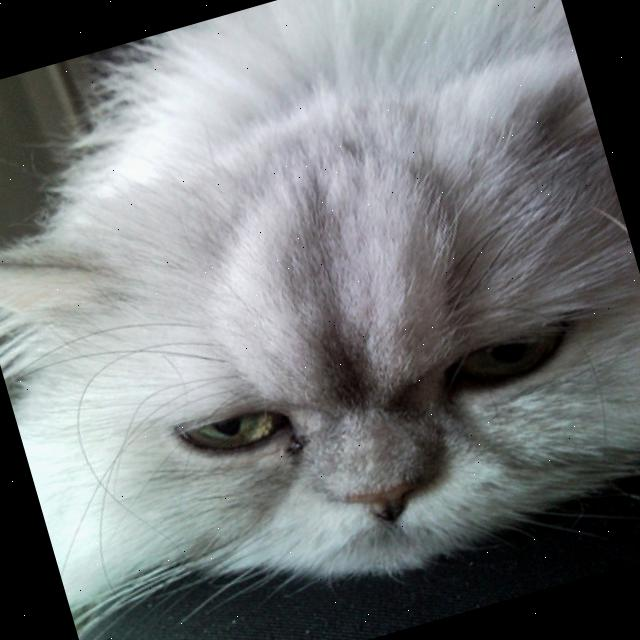cat-eye: (134, 383, 306, 499)
cat-eye-normal: (409, 294, 616, 445)
